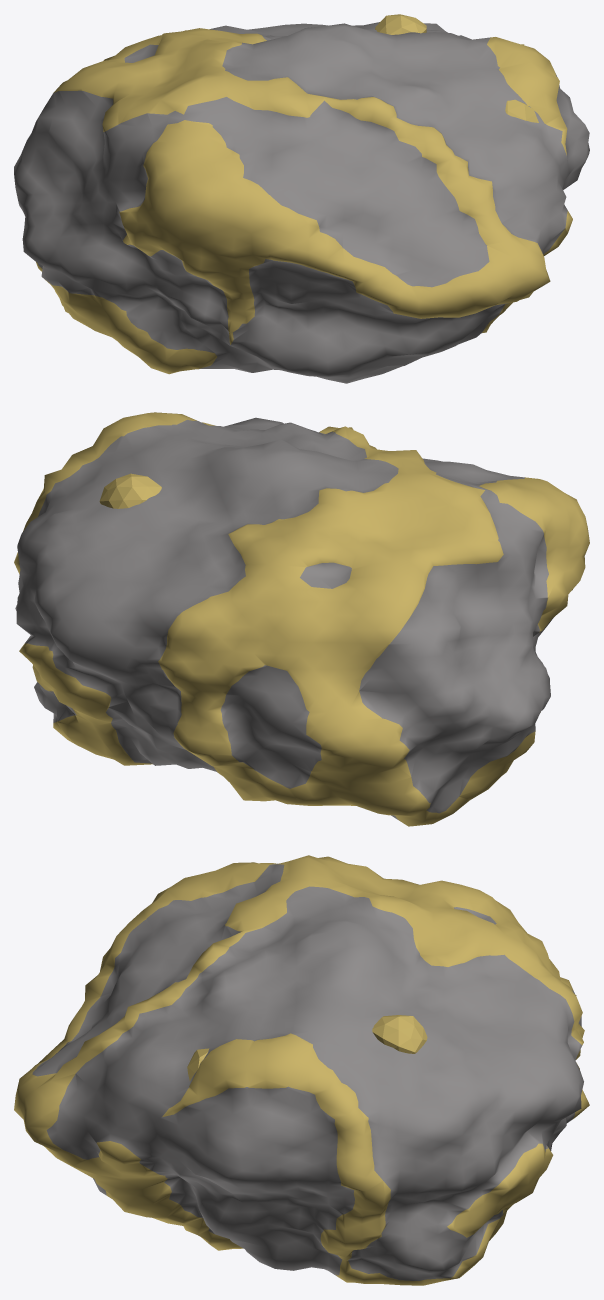
File: chalcopyrite_surface.glb
3 views of the same model, one above another, from view 1: azimuth 30°, elevation 25°; view 2: azimuth 150°, elevation 25°; view 3: azimuth 270°, elevation 25° (orthographic). The views are drawn at different scales.
Parts seen in each view (by area): view 1: chalcopyrite_surface; view 2: chalcopyrite_surface; view 3: chalcopyrite_surface.
Boxes of the visible parts, <box> form: chalcopyrite_surface: <box>14,14,589,383</box>; chalcopyrite_surface: <box>14,412,589,826</box>; chalcopyrite_surface: <box>14,855,589,1285</box>.
Bounding box in the file's own units: 1.38 × 0.768 × 1.32.
